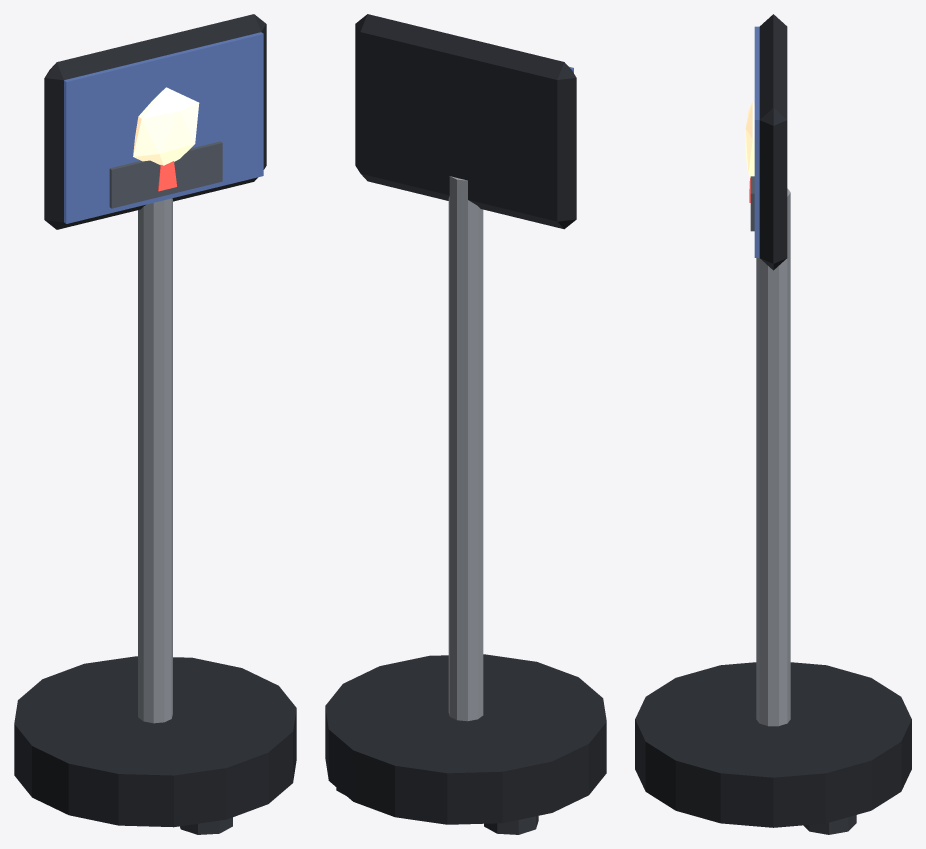
File: boardmember.glb
3 renders of one model, left to right at view 1: azimuth 30°, elevation 25°; view 2: azimuth 150°, elevation 25°; view 3: azimuth 270°, elevation 25°, orthographic. The views are drawn at different scales.
Parts seen in each view (by area): view 1: Body; view 2: Body; view 3: Body.
Part boxes in pixels (box(x1,y1,x2,y2)): Body: box(14, 14, 296, 834); Body: box(325, 14, 606, 834); Body: box(635, 14, 911, 834).
Size of the model in its own units: 0.4 by 1.16 by 0.4.
